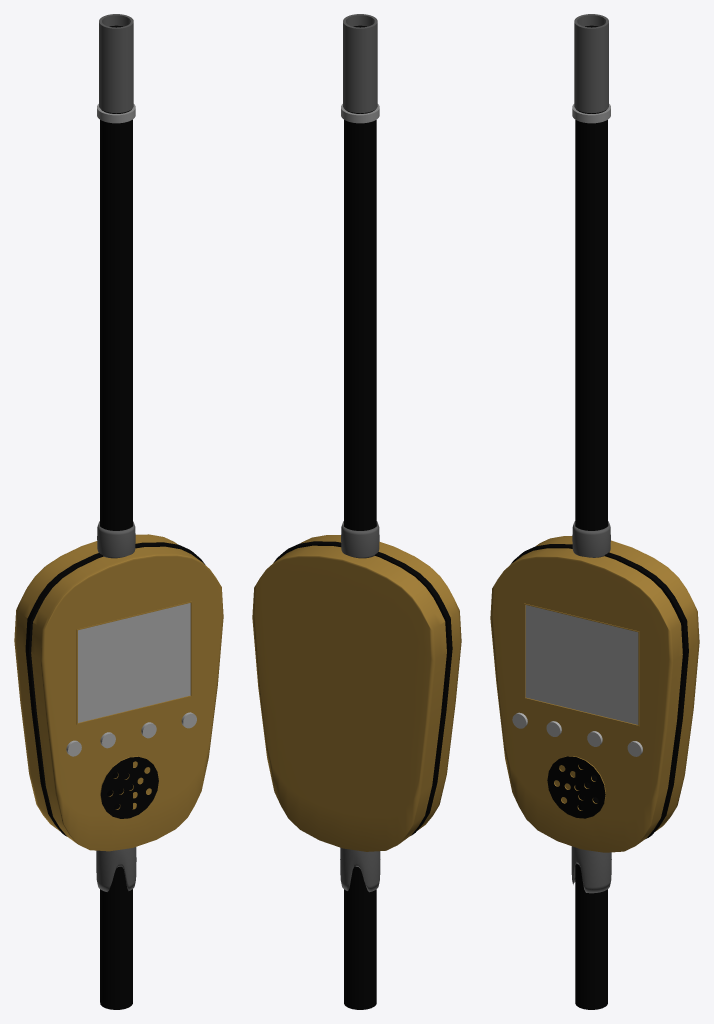
File: asst (1).fbx
3 renders of one model, left to right at view 1: azimuth 30°, elevation 25°; view 2: azimuth 150°, elevation 25°; view 3: azimuth 330°, elevation 25°, orthographic.
Parts seen in each view (by area): view 1: polySurface10, polySurface5, polySurface9, polySurface6, polySurface7; view 2: polySurface10, polySurface5, polySurface9, polySurface6, polySurface7; view 3: polySurface10, polySurface5, polySurface9, polySurface6, polySurface7.
Part boxes in pixels (x1=…): polySurface10: x1=14, y1=534, x2=223, y2=851; polySurface5: x1=100, y1=25, x2=132, y2=1009; polySurface9: x1=99, y1=14, x2=133, y2=113; polySurface6: x1=96, y1=847, x2=136, y2=891; polySurface7: x1=97, y1=521, x2=135, y2=558; polySurface10: x1=252, y1=535, x2=461, y2=851; polySurface5: x1=344, y1=25, x2=376, y2=1009; polySurface9: x1=343, y1=14, x2=377, y2=113; polySurface6: x1=340, y1=847, x2=380, y2=892; polySurface7: x1=341, y1=521, x2=379, y2=558; polySurface10: x1=490, y1=536, x2=699, y2=852; polySurface5: x1=575, y1=25, x2=607, y2=1009; polySurface9: x1=574, y1=14, x2=608, y2=113; polySurface6: x1=571, y1=846, x2=611, y2=893; polySurface7: x1=572, y1=521, x2=610, y2=557.
Bounding box in the file's own units: 4.08 × 20.57 × 1.15.
